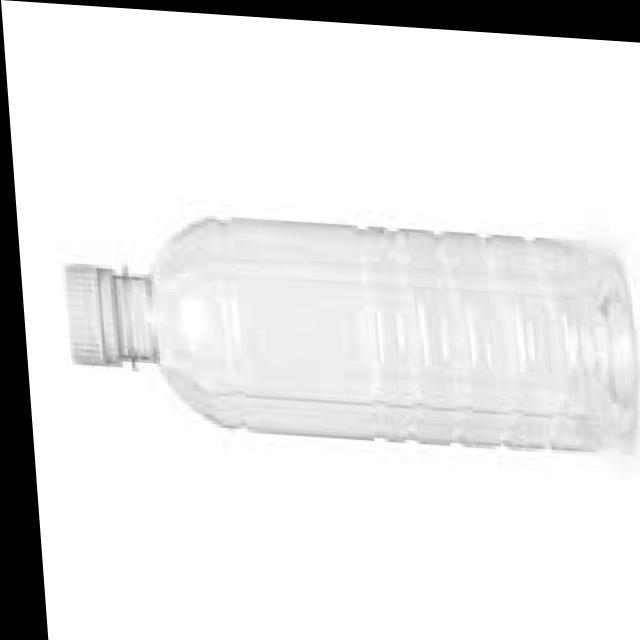bottle: (50, 195, 640, 458)
